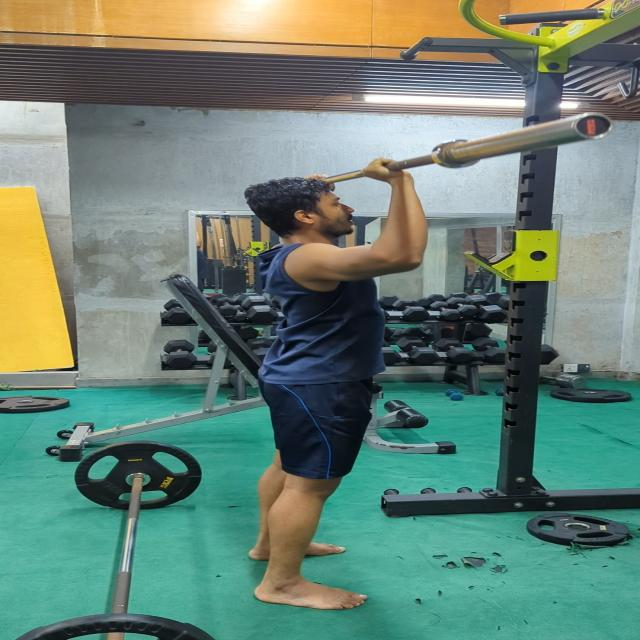Normal_OverheadPress: (219, 146, 442, 616)
